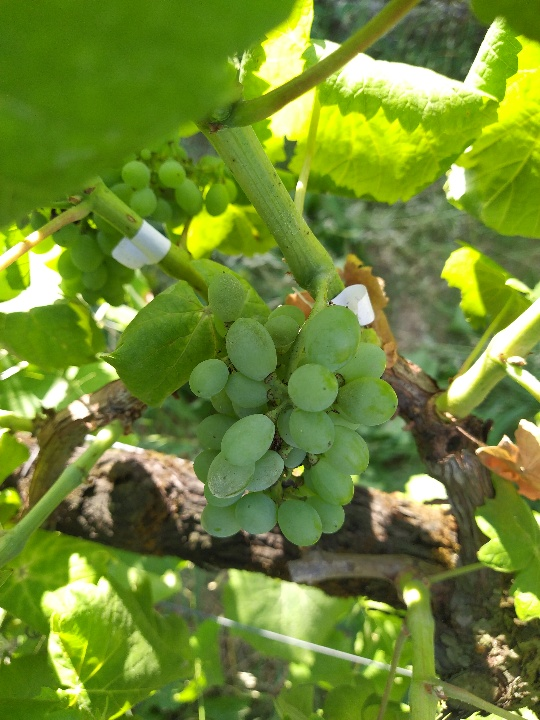grape: (181, 268, 405, 550)
